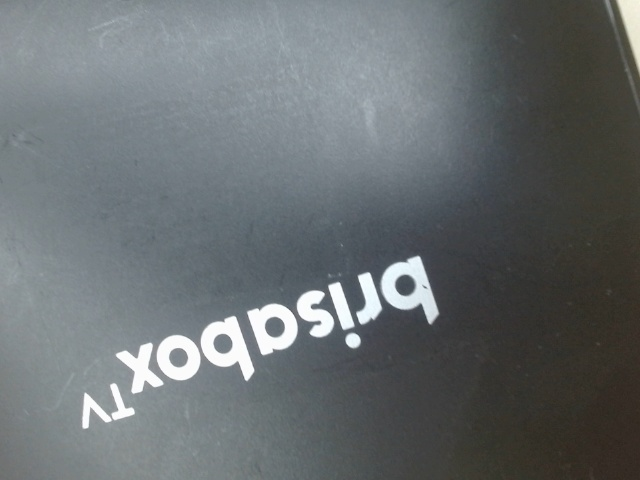AH_brisabox: (58, 249, 454, 438)
